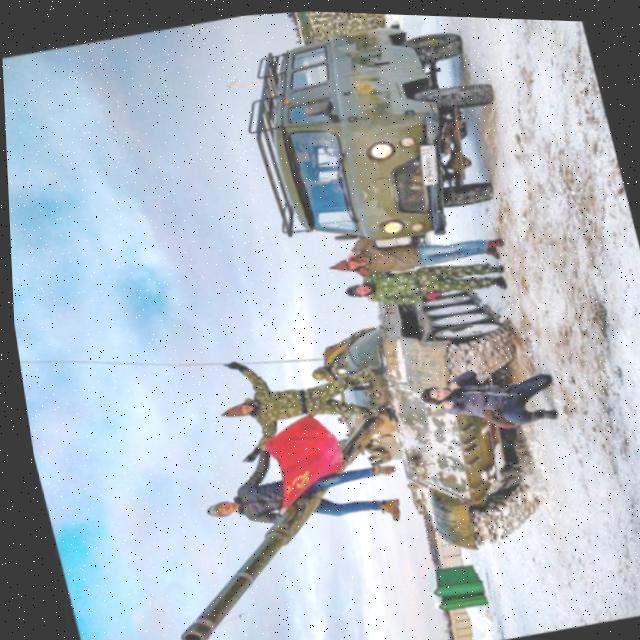rocket: (122, 406, 422, 640)
